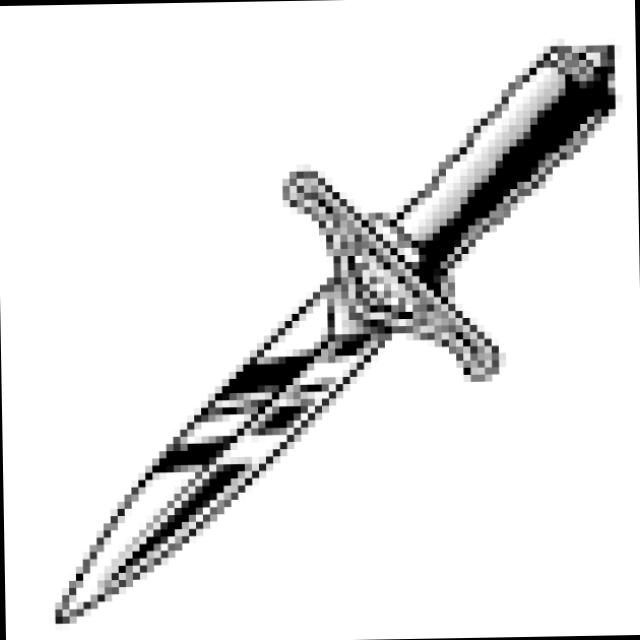Gun: (44, 9, 632, 639)
